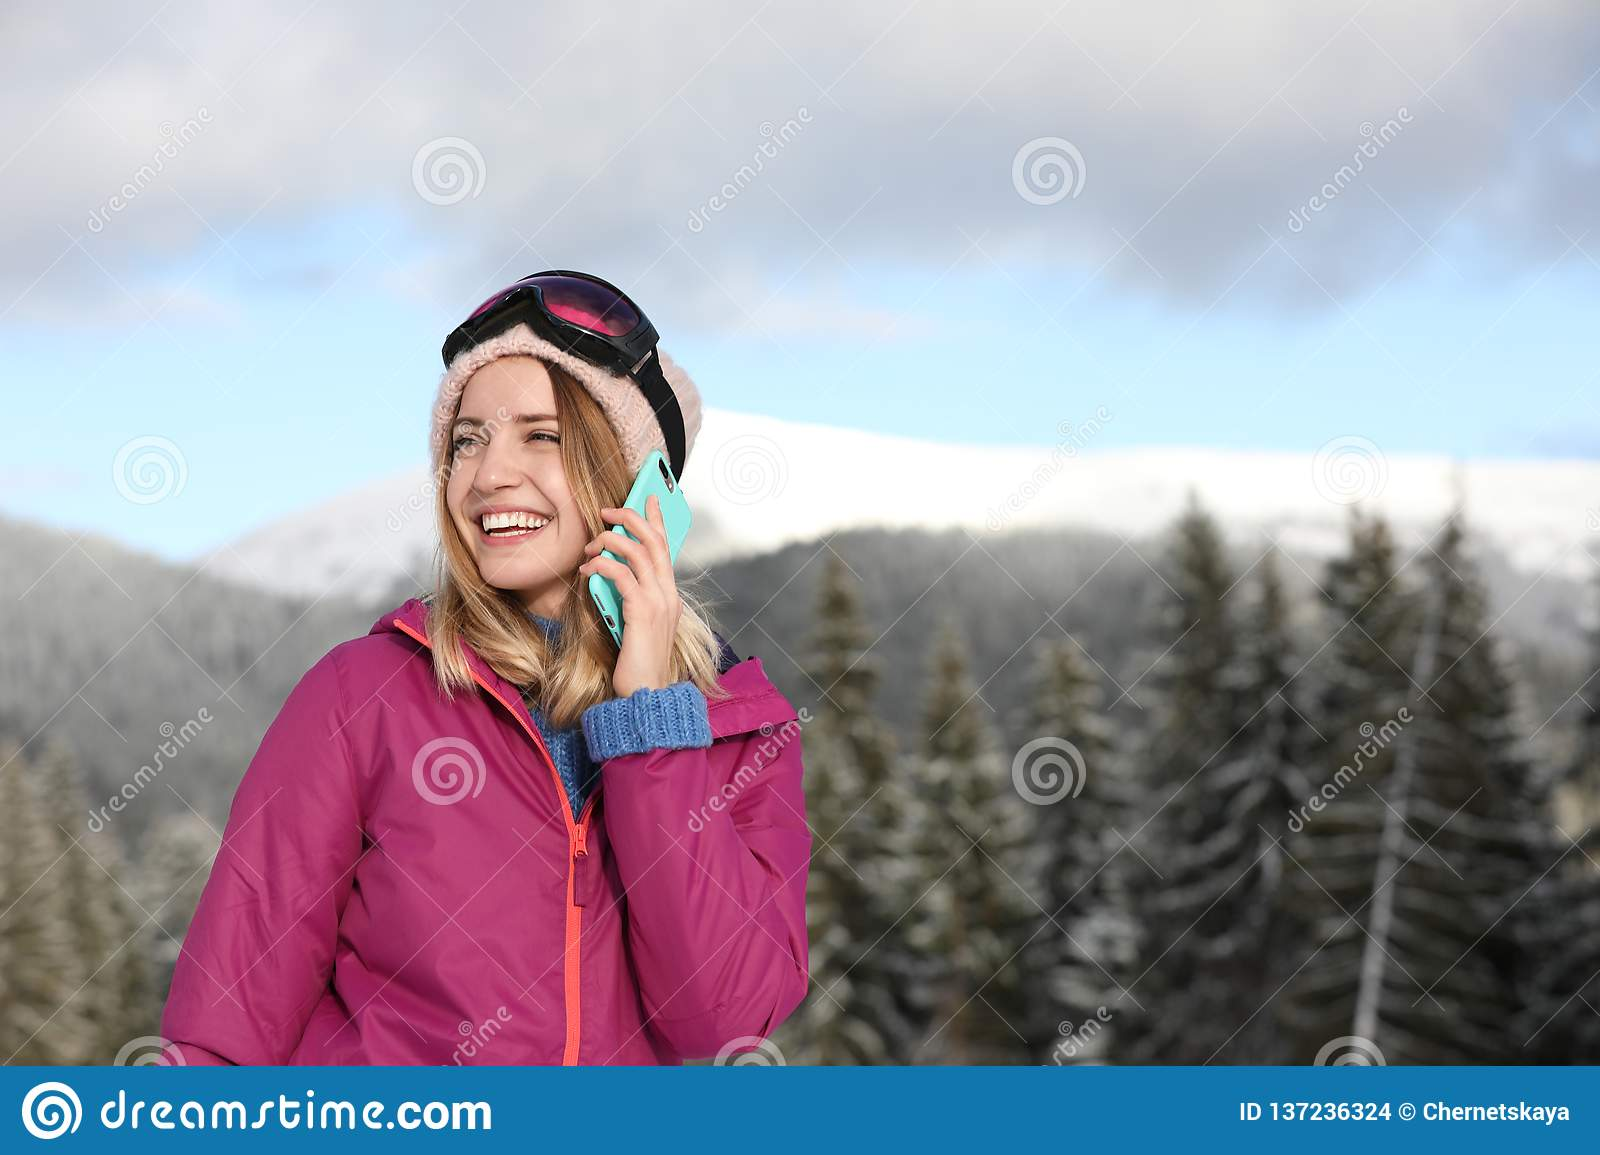phone: (586, 452, 691, 661)
talk: (448, 400, 698, 693)
